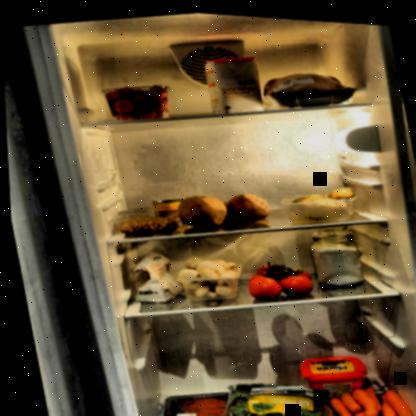beef: (149, 381, 252, 415)
butter: (292, 344, 369, 404)
carrot: (315, 366, 415, 415)
chicken: (256, 54, 360, 116)
corn: (149, 194, 188, 228)
mushrooms: (171, 247, 240, 296)
potato: (281, 177, 360, 220)
shrimp: (112, 206, 176, 238)
spinach: (201, 362, 339, 415)
strawberries: (92, 74, 180, 126)
sweet_potato: (168, 181, 277, 234)
tomato: (234, 247, 318, 305)
